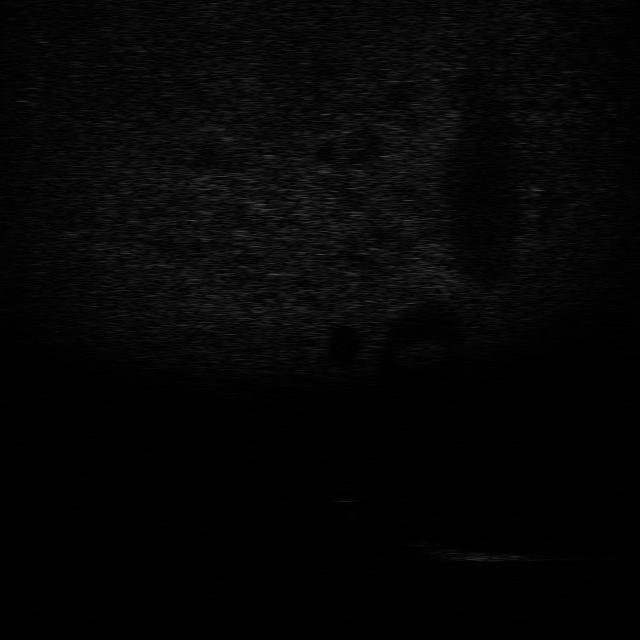ball: (322, 484, 370, 505)
metal bucket: (429, 541, 525, 569)
tyre: (388, 530, 457, 552)
